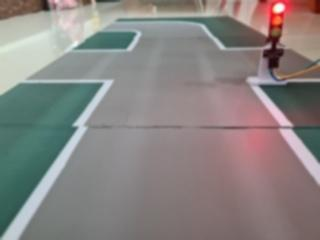red: (263, 2, 289, 56)
